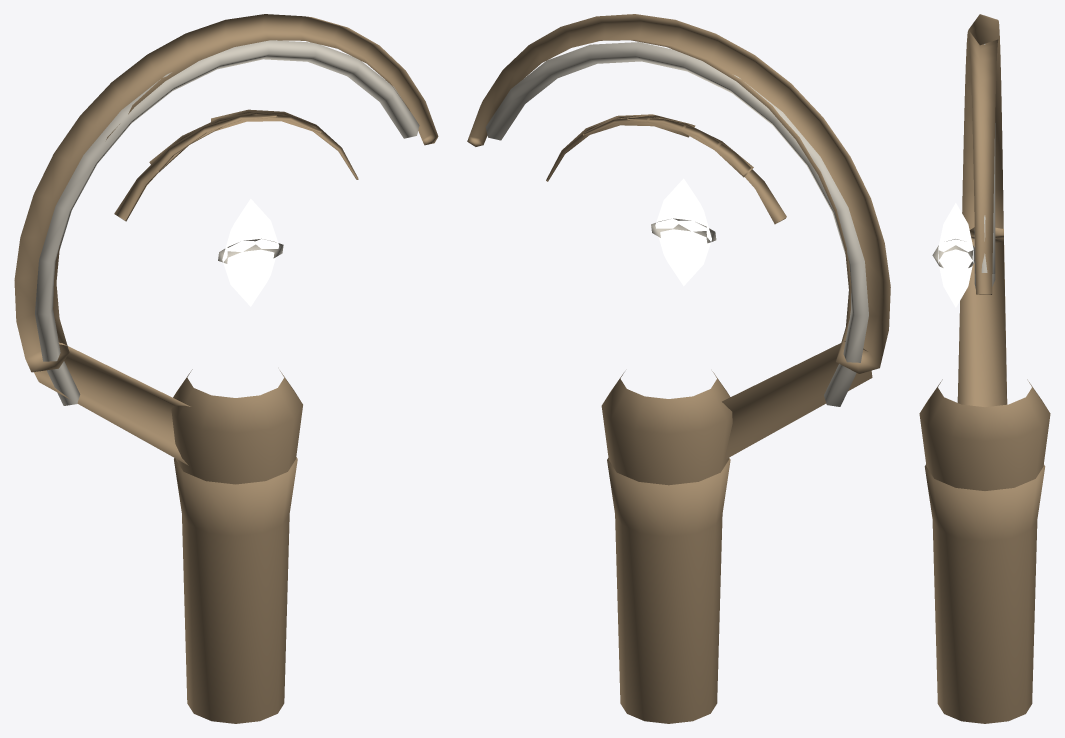
The model's file is head_mythic.glb.
3 views of the same model, side by side, from view 1: azimuth 30°, elevation 25°; view 2: azimuth 150°, elevation 25°; view 3: azimuth 270°, elevation 25° (orthographic). The views are drawn at different scales.
Visible parts, largest first — view 1: head_mythic; view 2: head_mythic; view 3: head_mythic.
Boxes of the visible parts, bbox=[...] form: head_mythic: bbox=[14, 14, 438, 723]; head_mythic: bbox=[467, 14, 890, 723]; head_mythic: bbox=[919, 14, 1050, 723].
Bounding box in the file's own units: 0.3242 × 0.5046 × 0.09.
